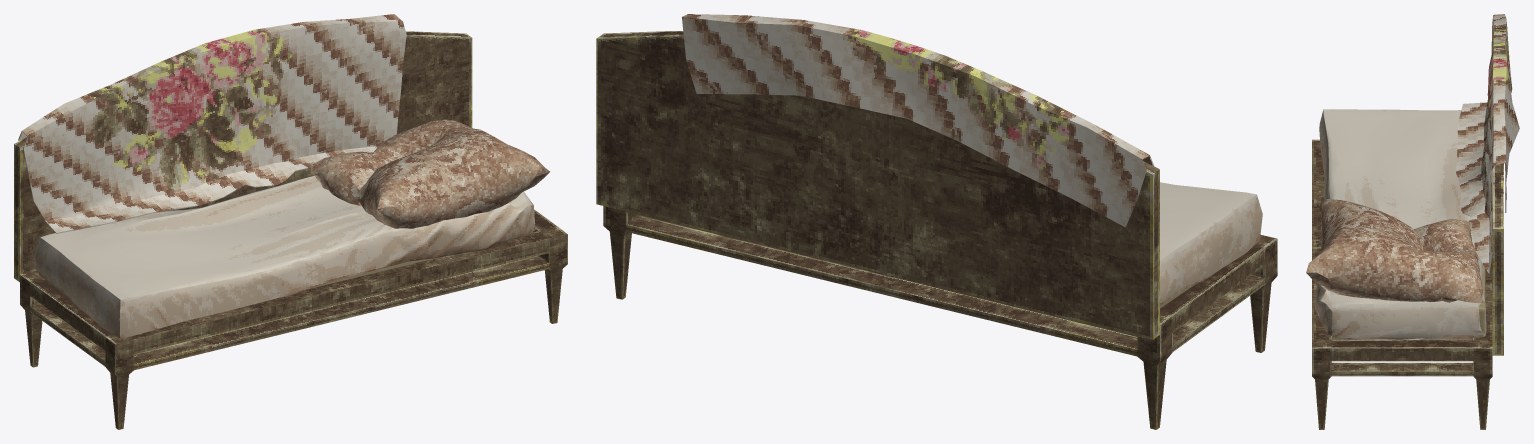
The model's file is vintage_day_bed.glb.
3 renders of one model, left to right at view 1: azimuth 30°, elevation 25°; view 2: azimuth 150°, elevation 25°; view 3: azimuth 270°, elevation 25°, orthographic. The views are drawn at different scales.
Visible parts, largest first — view 1: body; view 2: body; view 3: body.
Part boxes in pixels (x1=…): body: x1=14, y1=14, x2=567, y2=429; body: x1=596, y1=14, x2=1277, y2=429; body: x1=1306, y1=14, x2=1519, y2=429.
Bounding box in the file's own units: 1.97 × 1.13 × 0.8548.
Materials: 1 (1 with a texture image).
